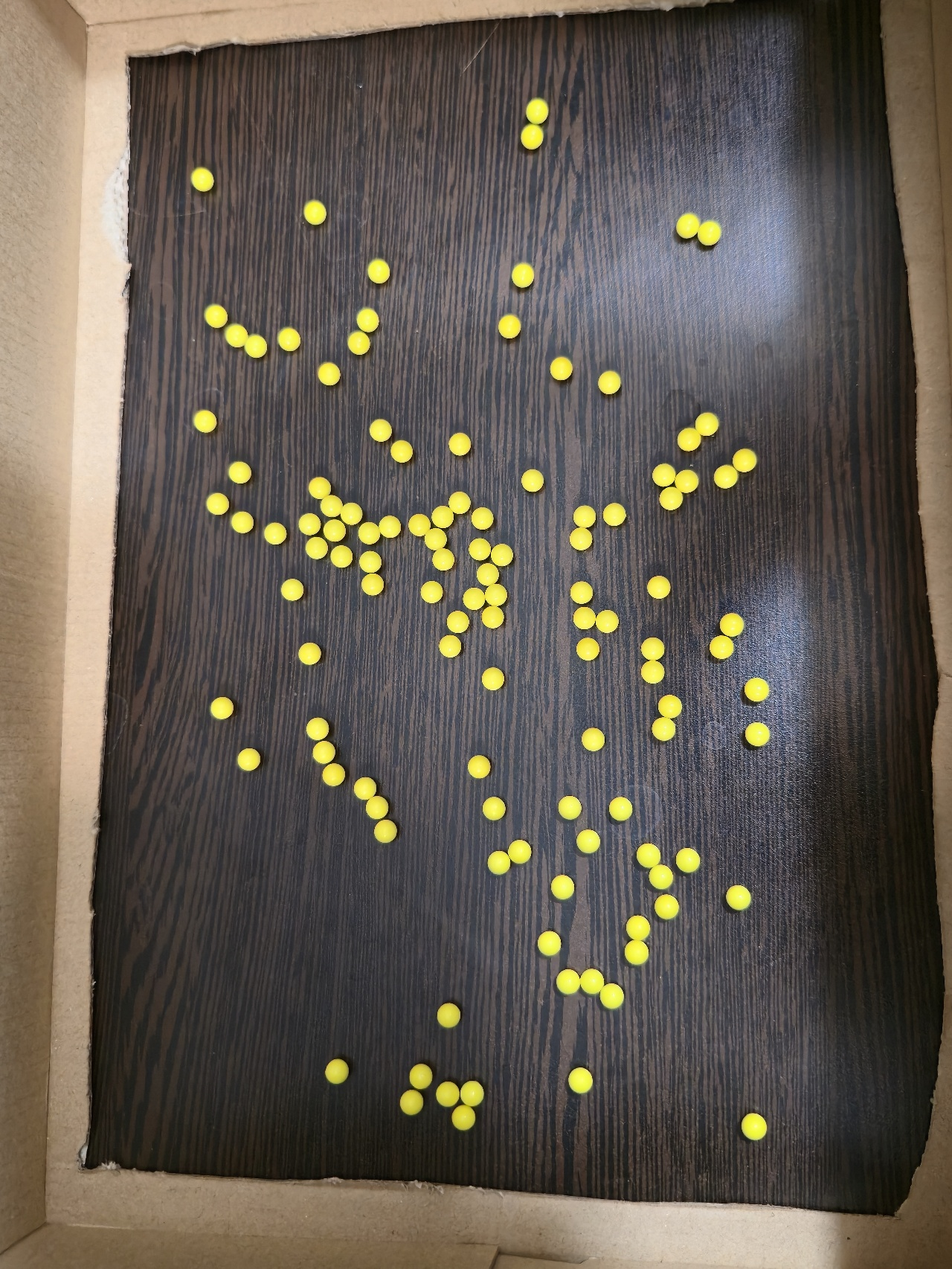yellow_bead: (574, 1073, 588, 1088), (681, 219, 696, 233), (605, 989, 619, 1003), (585, 975, 599, 989), (631, 922, 645, 936), (654, 870, 668, 884), (747, 1121, 762, 1134), (230, 329, 245, 342), (531, 103, 543, 119), (732, 891, 745, 905), (681, 854, 695, 867), (657, 722, 670, 736), (750, 683, 764, 696), (702, 226, 715, 240), (457, 1112, 470, 1125), (562, 976, 575, 989), (543, 937, 556, 950), (642, 849, 655, 862), (248, 340, 261, 353), (466, 1087, 478, 1101), (415, 1070, 427, 1084), (660, 901, 674, 913), (309, 205, 321, 219), (406, 1096, 418, 1109), (442, 1088, 454, 1101), (331, 1065, 343, 1078), (443, 1009, 455, 1022), (630, 947, 643, 959), (556, 881, 569, 893), (513, 846, 526, 858), (564, 802, 576, 815), (664, 701, 677, 713), (715, 642, 728, 654), (666, 492, 678, 505), (720, 471, 733, 483), (196, 173, 208, 186), (353, 336, 364, 350), (362, 313, 373, 327), (493, 857, 505, 869), (488, 803, 500, 815), (647, 666, 659, 678), (601, 616, 613, 628), (364, 556, 376, 568), (579, 511, 591, 523), (582, 836, 595, 847), (604, 376, 615, 389), (517, 269, 528, 282), (380, 826, 391, 838), (371, 803, 383, 814), (588, 734, 599, 746), (303, 649, 315, 660), (647, 644, 659, 655), (582, 644, 594, 655), (579, 613, 591, 624), (653, 582, 664, 594), (430, 533, 441, 545), (576, 533, 587, 545), (303, 519, 315, 530), (326, 501, 338, 512), (211, 498, 222, 510), (314, 483, 326, 494), (681, 475, 693, 486), (659, 469, 670, 481), (739, 455, 751, 466), (684, 433, 695, 445), (701, 419, 713, 430), (210, 310, 221, 322), (373, 266, 384, 278), (752, 728, 762, 741), (726, 622, 739, 632), (318, 748, 329, 759), (312, 724, 323, 735), (445, 641, 456, 652), (452, 617, 463, 628), (469, 594, 480, 605), (490, 590, 501, 601), (426, 587, 437, 598), (367, 579, 378, 590), (482, 569, 493, 580), (336, 551, 347, 562), (496, 550, 507, 561), (364, 528, 375, 539), (329, 525, 340, 536), (236, 517, 247, 528), (477, 513, 488, 524), (609, 510, 620, 521), (454, 498, 465, 509), (527, 475, 538, 486), (234, 467, 245, 478), (396, 446, 407, 457), (375, 425, 386, 436), (199, 416, 210, 427), (283, 335, 294, 346), (242, 755, 254, 765), (488, 611, 498, 623), (576, 588, 588, 598), (286, 585, 298, 595), (345, 509, 357, 519), (504, 320, 513, 333), (360, 784, 371, 794), (473, 762, 483, 773), (216, 704, 227, 714), (488, 674, 498, 685), (475, 544, 485, 555), (311, 542, 321, 553), (269, 529, 280, 539), (384, 522, 395, 532), (414, 521, 425, 531), (437, 513, 448, 523), (454, 440, 465, 450), (324, 369, 334, 380), (556, 364, 566, 375), (329, 770, 339, 780), (438, 555, 448, 565), (614, 806, 625, 815), (527, 134, 533, 136)
